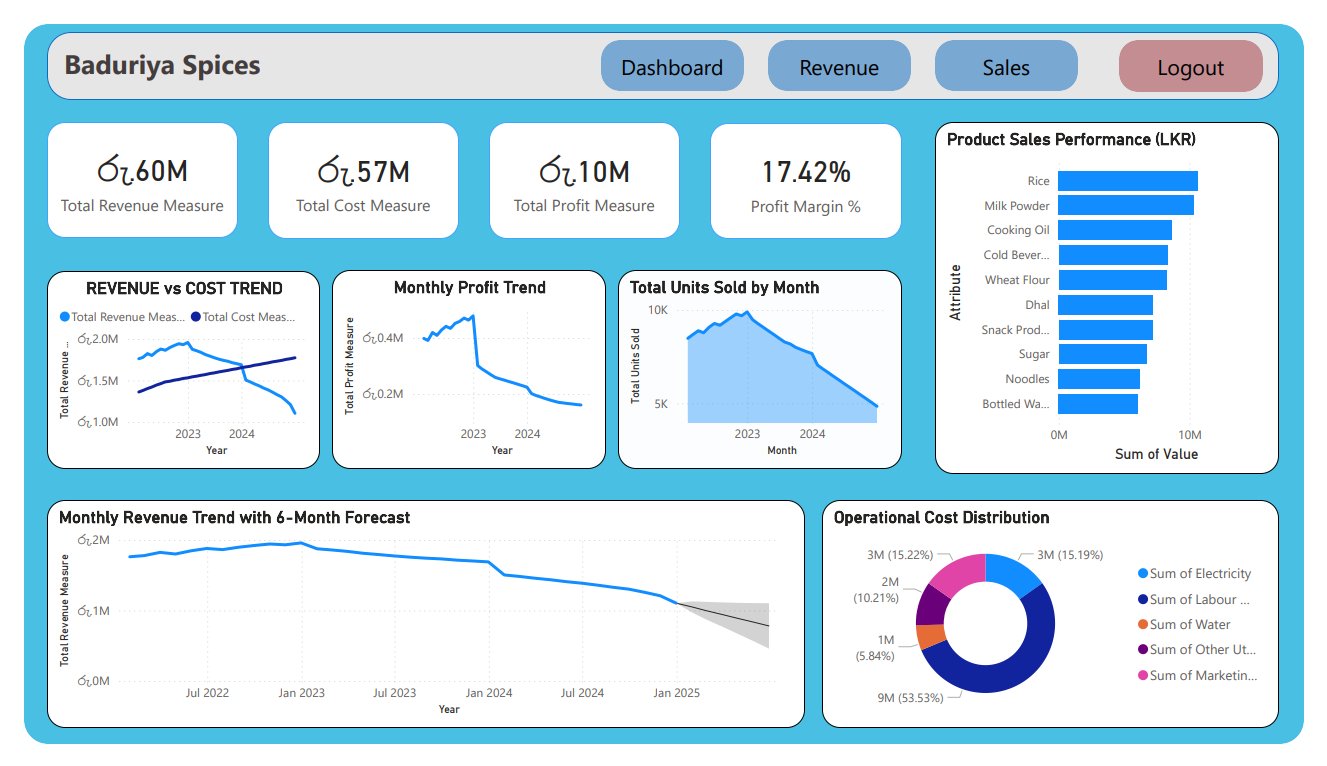

This screenshot's page, from the dashboard's own definition file:
{"tool":"powerbi","page":{"name":"Page 1","canvas":[1280,720],"ordinal":0},"visuals":[{"type":"shape","box":[0,0,1280,720],"z":0},{"type":"shape","box":[22.5,7.5,1232.5,68.8],"z":1000},{"type":"textbox","box":[35,16.2,208.8,52.5],"z":2000},{"type":"actionButton","box":[577.1,15.7,142.9,51.4],"z":3000},{"type":"card","fields":{"Values":["Statistic.Total Revenue"]},"box":[22.5,97.5,191.2,116.2],"z":4000},{"type":"actionButton","box":[744.3,15.7,142.9,51.4],"z":5000},{"type":"actionButton","box":[911.4,15.7,142.9,51.4],"z":6000},{"type":"actionButton","box":[1095,16.2,143.8,51.2],"z":7000},{"type":"card","fields":{"Values":["Statistic.Total Cost Measure"]},"box":[243.8,97.5,191.2,117.5],"z":8000},{"type":"card","fields":{"Values":["Statistic.Total Profit Measure"]},"box":[465,97.5,191.2,117.5],"z":9000},{"type":"card","fields":{"Values":["Statistic.Profit Margin %"]},"box":[686.2,98.8,191.2,116.2],"z":10000},{"type":"lineChart","title":"REVENUE vs COST TREND","fields":{"Y":["Statistic.Total Revenue","Statistic.Total Cost Measure"],"Category":["Statistic.Month.Variation.Date Hierarchy.Year","Statistic.Month.Variation.Date Hierarchy.Quarter","Statistic.Month.Variation.Date Hierarchy.Month","Statistic.Month.Variation.Date Hierarchy.Day"]},"box":[22.5,247.2,273.8,197.5],"z":11000},{"type":"lineChart","title":"Monthly Profit Trend","fields":{"Y":["Statistic.Total Profit Measure"],"Category":["Statistic.Month.Variation.Date Hierarchy.Year","Statistic.Month.Variation.Date Hierarchy.Quarter","Statistic.Month.Variation.Date Hierarchy.Month","Statistic.Month.Variation.Date Hierarchy.Day"]},"box":[308.1,246,273.8,198.8],"z":12000},{"type":"areaChart","fields":{"Category":["Unit.Month"],"Y":["Unit.Total Units Sold"]},"box":[593.8,246,283.8,198.8],"z":13000},{"type":"clusteredBarChart","title":"Product Sales Performance (LKR)","fields":{"Y":["Sum(Sales (2).Value)"],"Category":["Sales (2).Attribute"]},"box":[911.2,97.5,343.8,352.5],"z":14000},{"type":"donutChart","title":"Operational Cost Distribution","fields":{"Y":["Sum(Statistic.Electricity)","Sum(Statistic.Labour Cost)","Sum(Statistic.Water)","Sum(Statistic.Other Utilities)","Sum(Statistic.Marketing Spend)"]},"box":[797.5,476.2,457.5,227.5],"z":15000},{"type":"lineChart","title":"Monthly Revenue Trend with 6-Month Forecast","fields":{"Y":["Statistic.Total Revenue Measure"],"Category":["Statistic.Month.Variation.Date Hierarchy.Year","Statistic.Month.Variation.Date Hierarchy.Quarter","Statistic.Month.Variation.Date Hierarchy.Month","Statistic.Month.Variation.Date Hierarchy.Day"]},"box":[22.5,476.2,758.8,227.5],"z":16000}]}

Visuals, with their boxes in screenshot pixels (x1, y1, x2, y2), scaled from the page's 1280x720 canvas onto the 1327x766 screenshot:
shape: x1=0, y1=0, x2=1326, y2=765
shape: x1=23, y1=8, x2=1301, y2=81
textbox: x1=36, y1=17, x2=253, y2=73
actionButton: x1=598, y1=17, x2=746, y2=71
card - Statistic.Total Revenue: x1=23, y1=104, x2=222, y2=227
actionButton: x1=772, y1=17, x2=920, y2=71
actionButton: x1=945, y1=17, x2=1093, y2=71
actionButton: x1=1135, y1=17, x2=1284, y2=72
card - Statistic.Total Cost Measure: x1=253, y1=104, x2=451, y2=229
card - Statistic.Total Profit Measure: x1=482, y1=104, x2=680, y2=229
card - Statistic.Profit Margin %: x1=711, y1=105, x2=910, y2=229
"REVENUE vs COST TREND" lineChart: x1=23, y1=263, x2=307, y2=473
"Monthly Profit Trend" lineChart: x1=319, y1=262, x2=603, y2=473
areaChart - Unit.Month x Unit.Total Units Sold: x1=616, y1=262, x2=910, y2=473
"Product Sales Performance (LKR)" clusteredBarChart: x1=945, y1=104, x2=1301, y2=479
"Operational Cost Distribution" donutChart: x1=827, y1=507, x2=1301, y2=749
"Monthly Revenue Trend with 6-Month Forecast" lineChart: x1=23, y1=507, x2=810, y2=749
